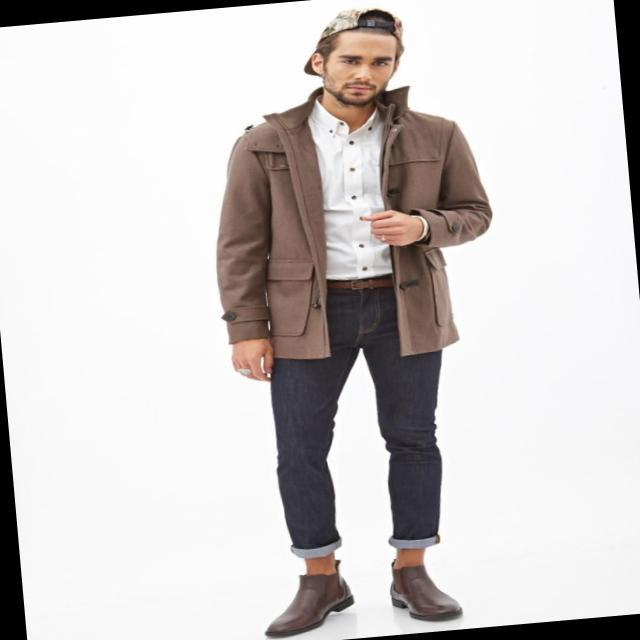coat: (214, 80, 495, 363)
short sleeve shirt: (305, 94, 394, 281)
trousers: (264, 281, 446, 556)
